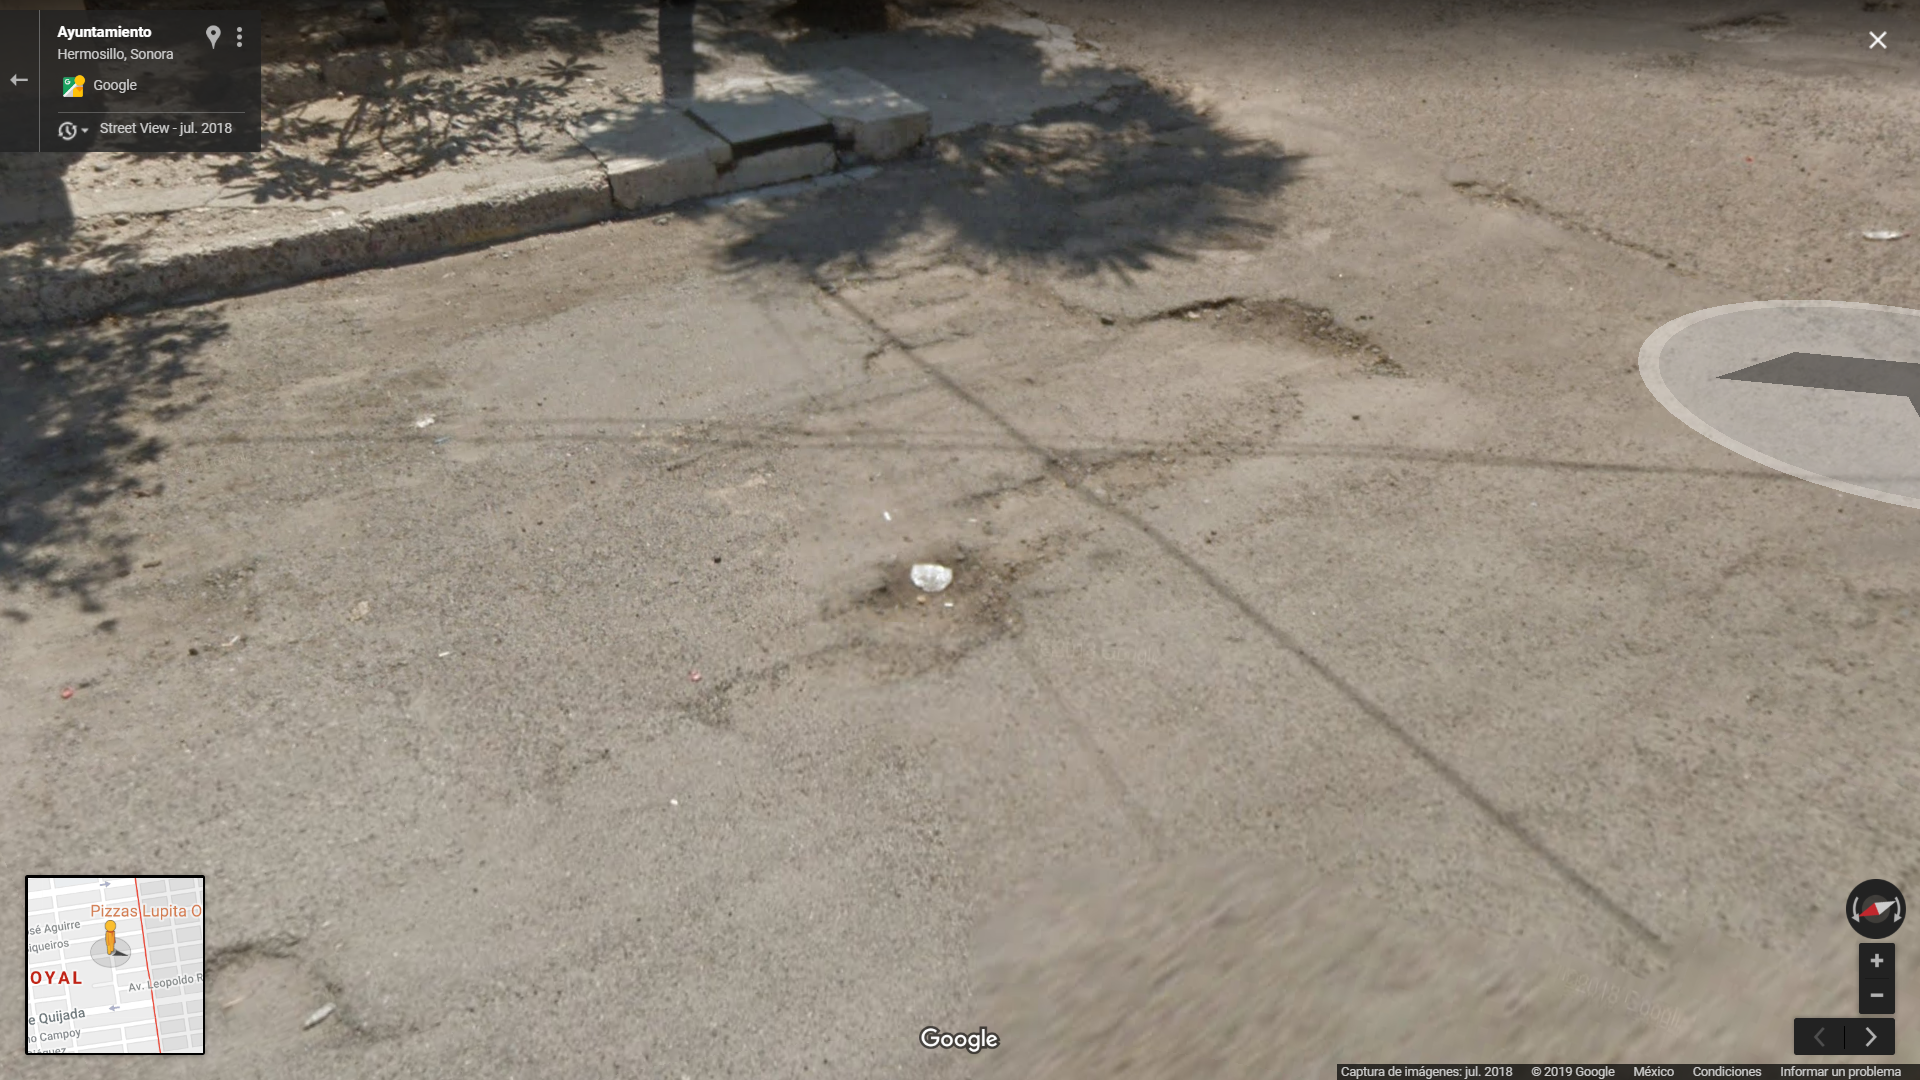pothole: (1110, 269, 1399, 407), (818, 509, 1033, 684), (1429, 171, 1594, 239)
